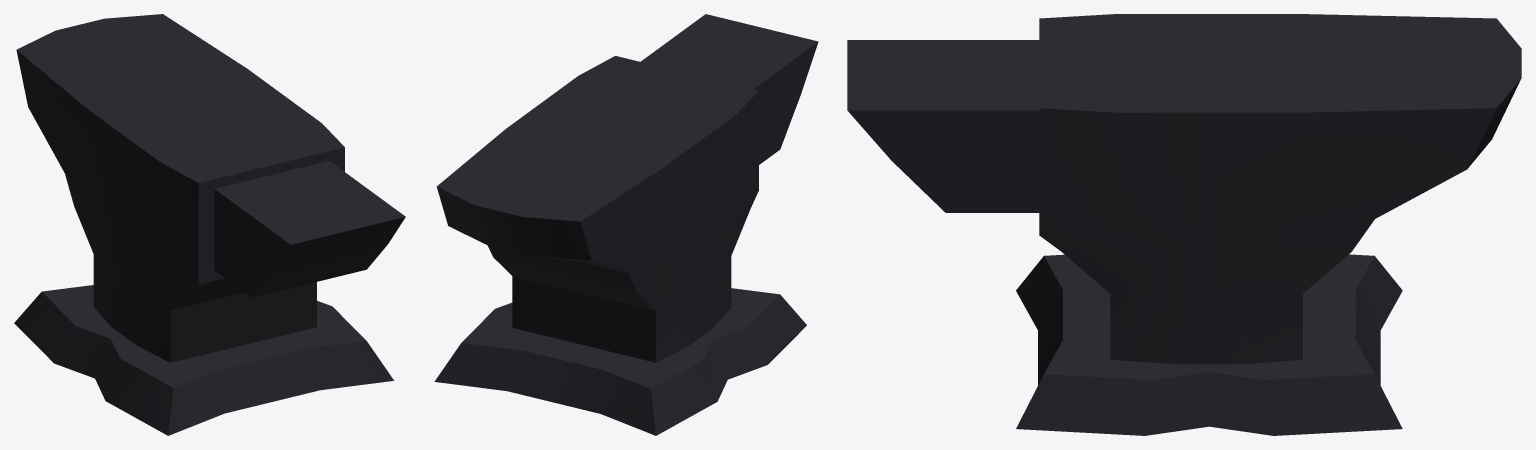
The model's file is Anvil.fbx.
3 renders of one model, left to right at view 1: azimuth 30°, elevation 25°; view 2: azimuth 150°, elevation 25°; view 3: azimuth 270°, elevation 25°, orthographic. The views are drawn at different scales.
Visible parts, largest first — view 1: Anvil; view 2: Anvil; view 3: Anvil.
Part boxes in pixels (x1,y1,x2,y2): Anvil: [14, 14, 405, 435]; Anvil: [434, 14, 818, 435]; Anvil: [847, 14, 1521, 435].
Bounding box in the file's own units: 70.79 × 64.26 × 132.
